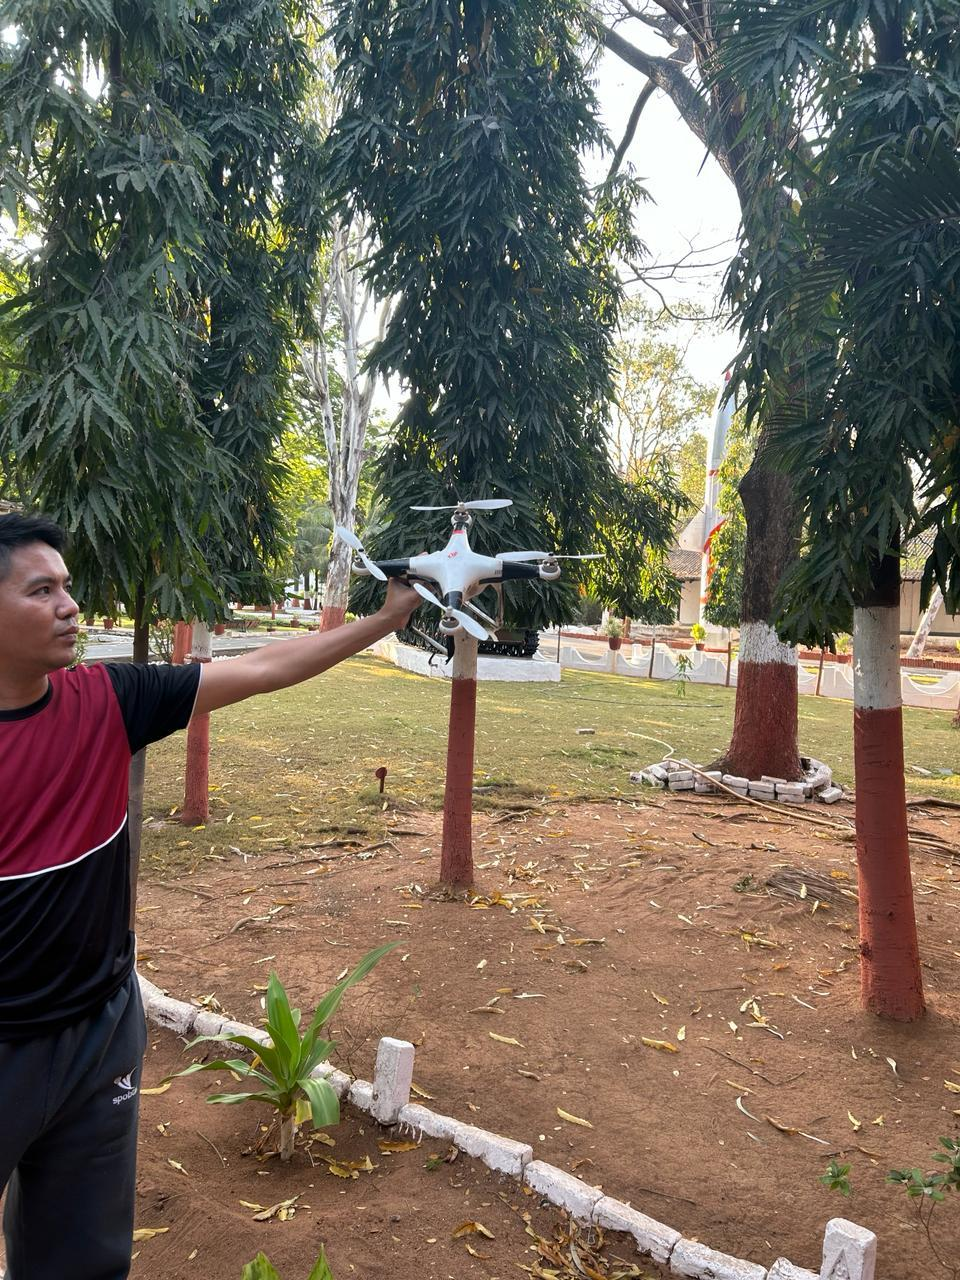drone: (333, 499, 605, 654)
